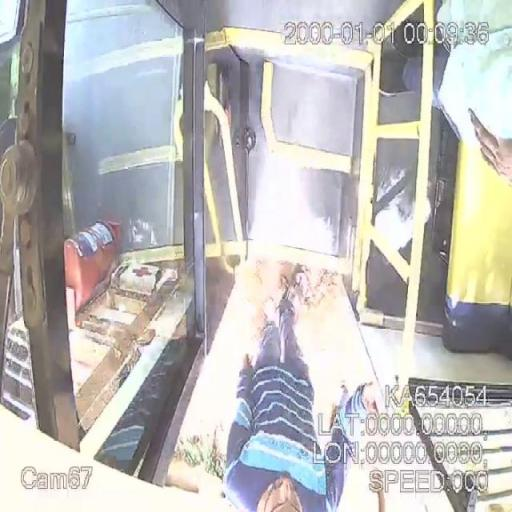persona: (222, 293, 379, 510)
